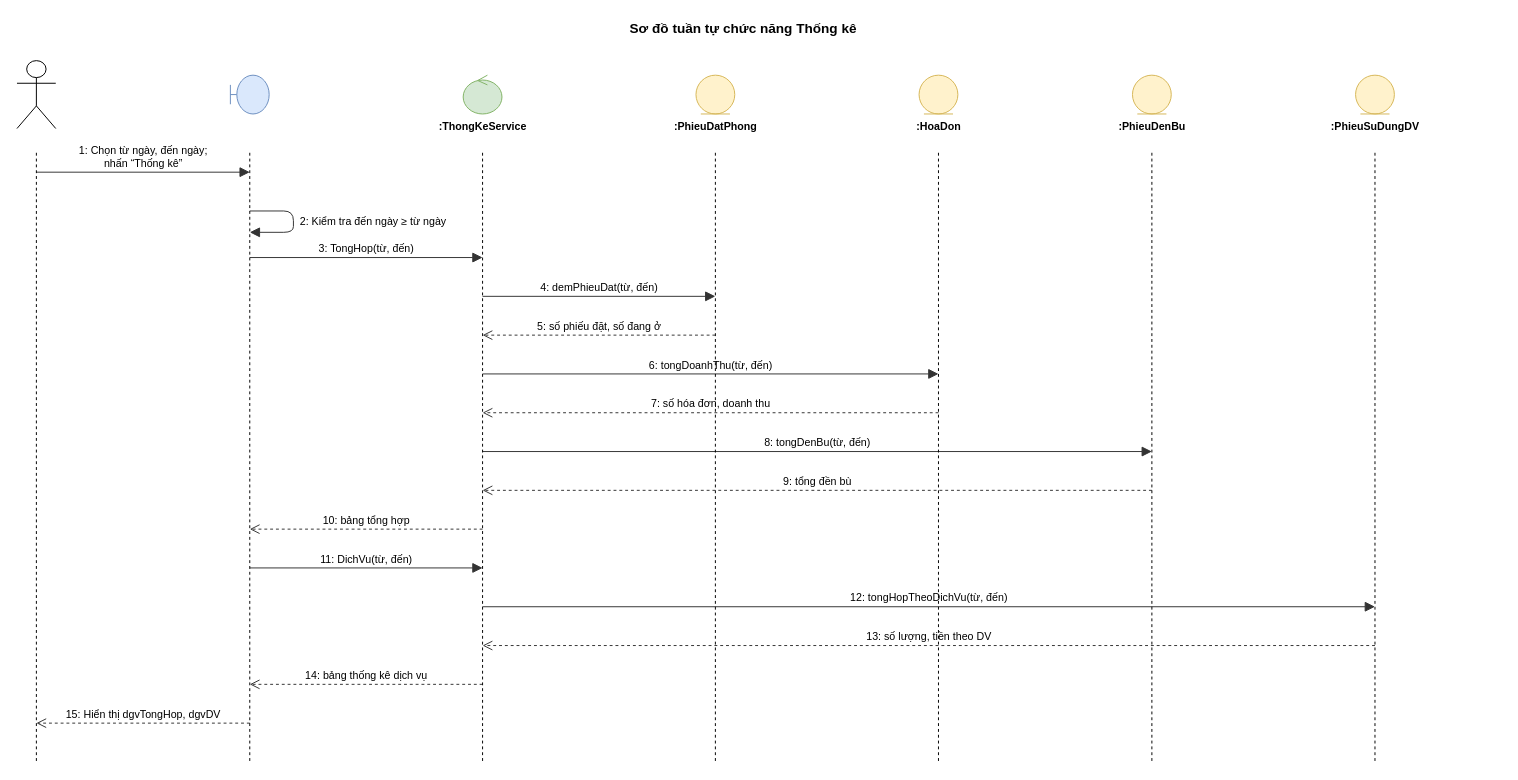
Some shapes in this 1518 by 780 pixel diagram are drawn without their labels. The centre of each missing label's shape, as x and y in pixels:
:FrmThongKe: the point at 249,94
Quản lý: the point at 36,94
